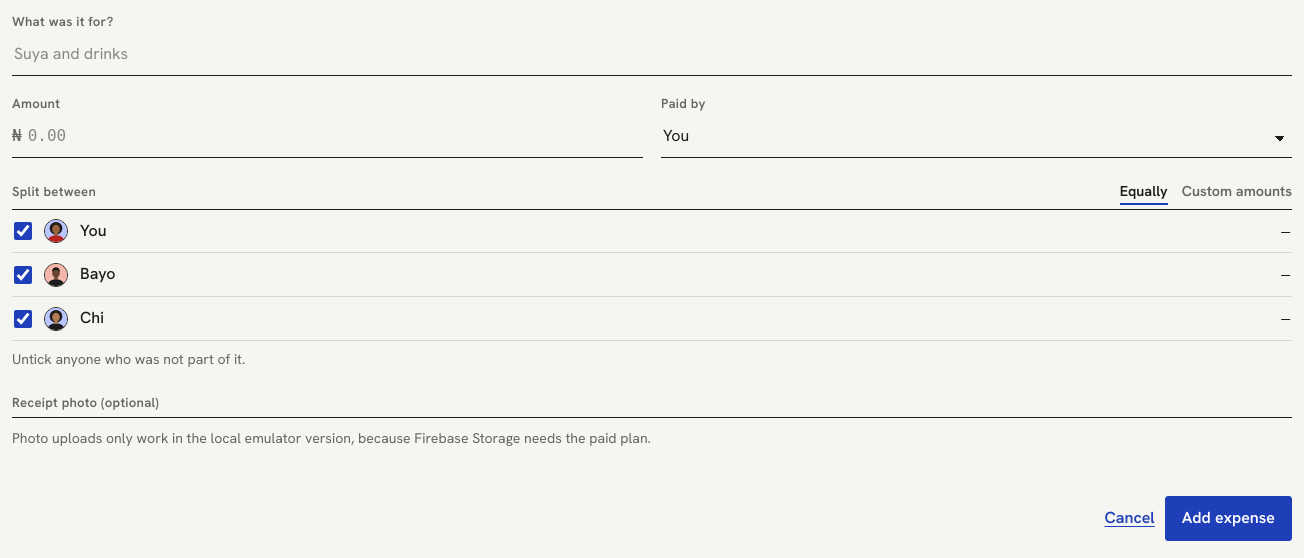
Scenario: <ExpenseForm> equal split › re-splits when someone is unticked
The image size is (1304, 558).
Type "100" into the field labelled "Amount" at (334, 137), box 26,116 -> 643,157
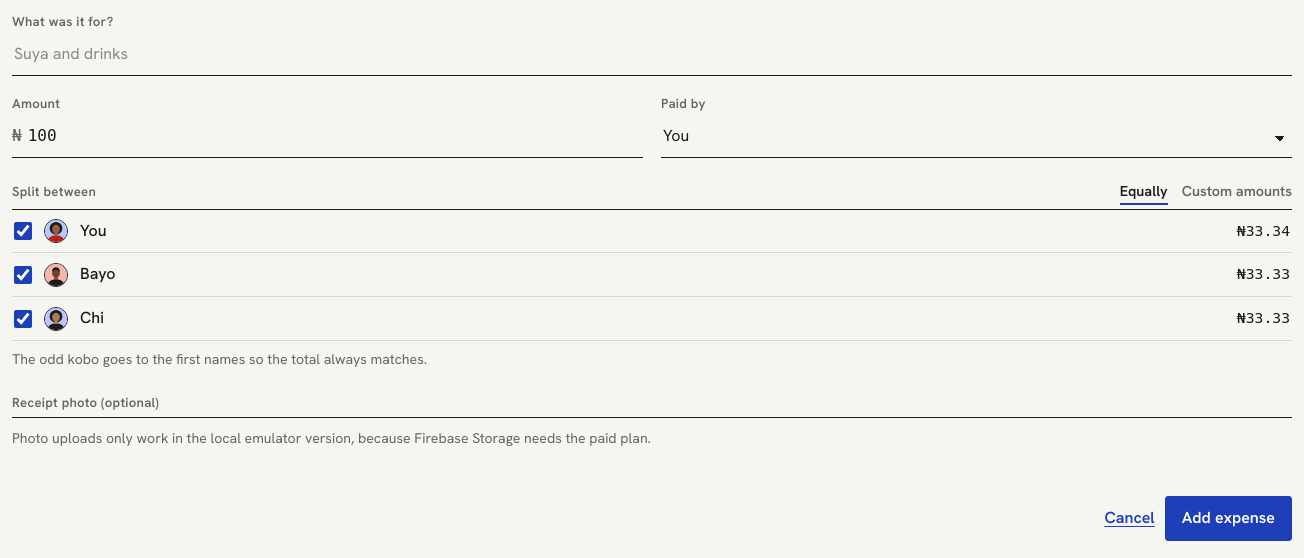
Click the checkbox labelled "Chi" at (23, 319), box 14,310 -> 32,328
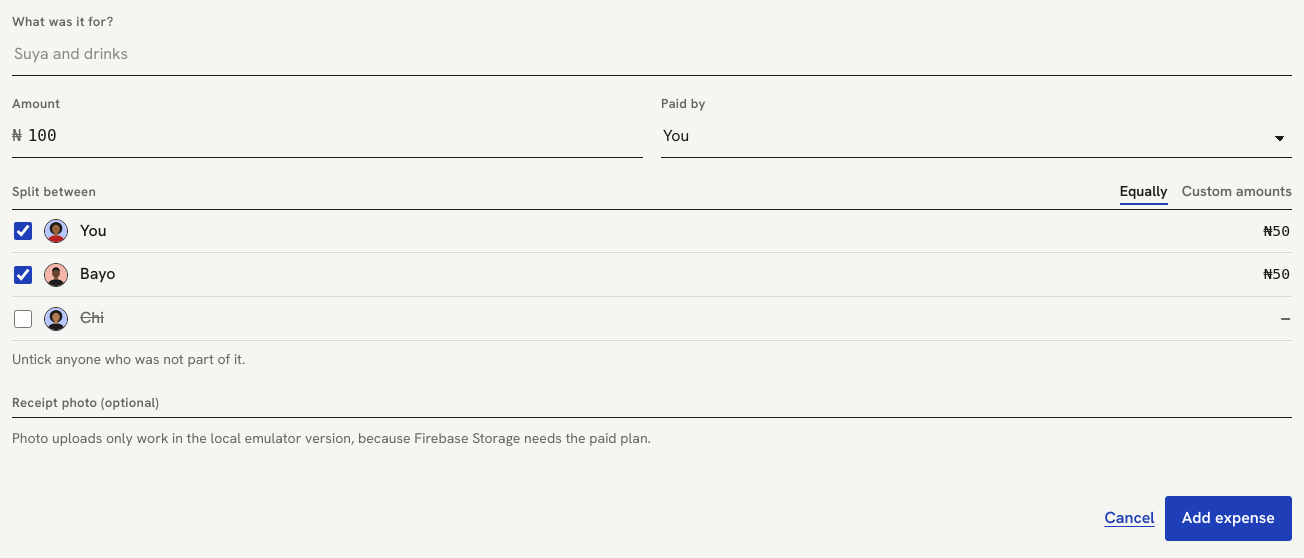
Result: the text "Untick anyone who was not part of it." is shown at 12,350 -> 245,368
